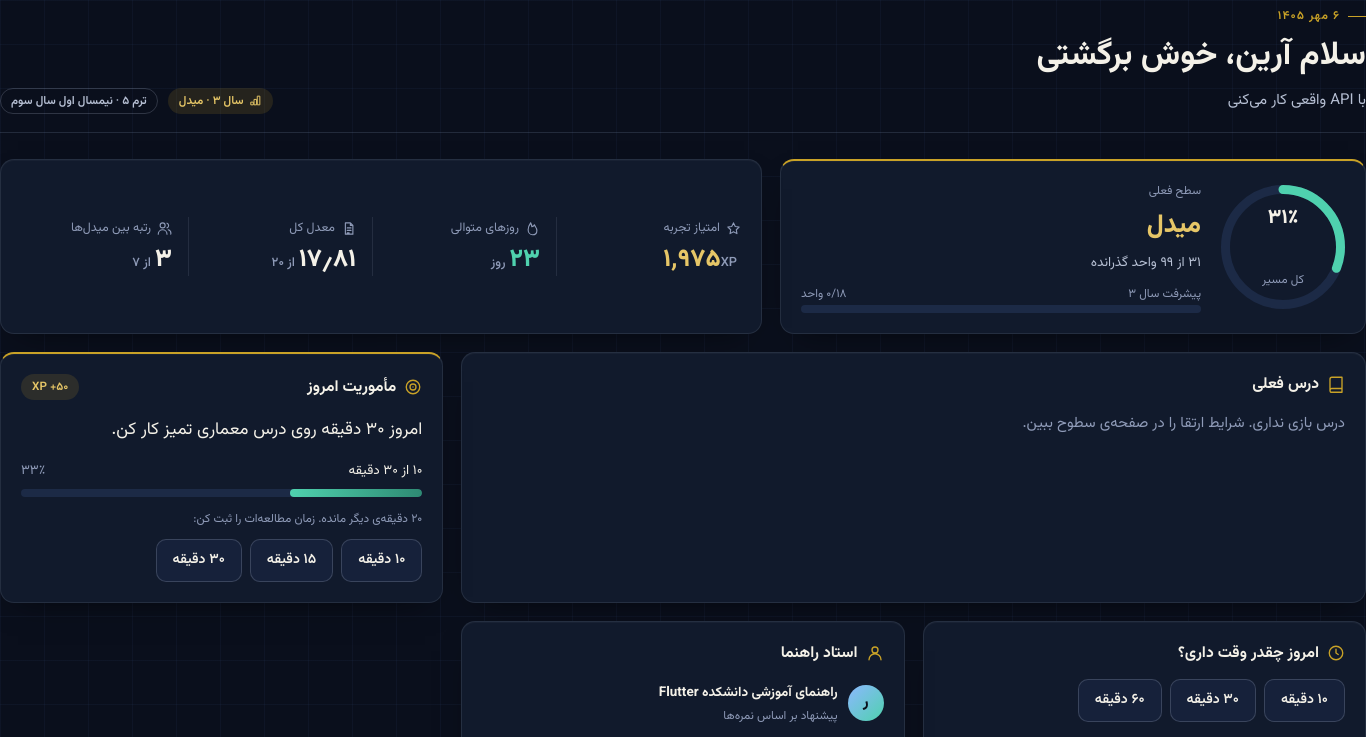
it: Dashboard › check-in posts the chosen time and shows the suggestion
What coordinates should you click on to do the following:
click the button "۳۰ دقیقه" below "امروز چقدر وقت داری؟"
I would click on:
 (1213, 700)
Its box is [1170,679,1256,722].
(page scrolled)
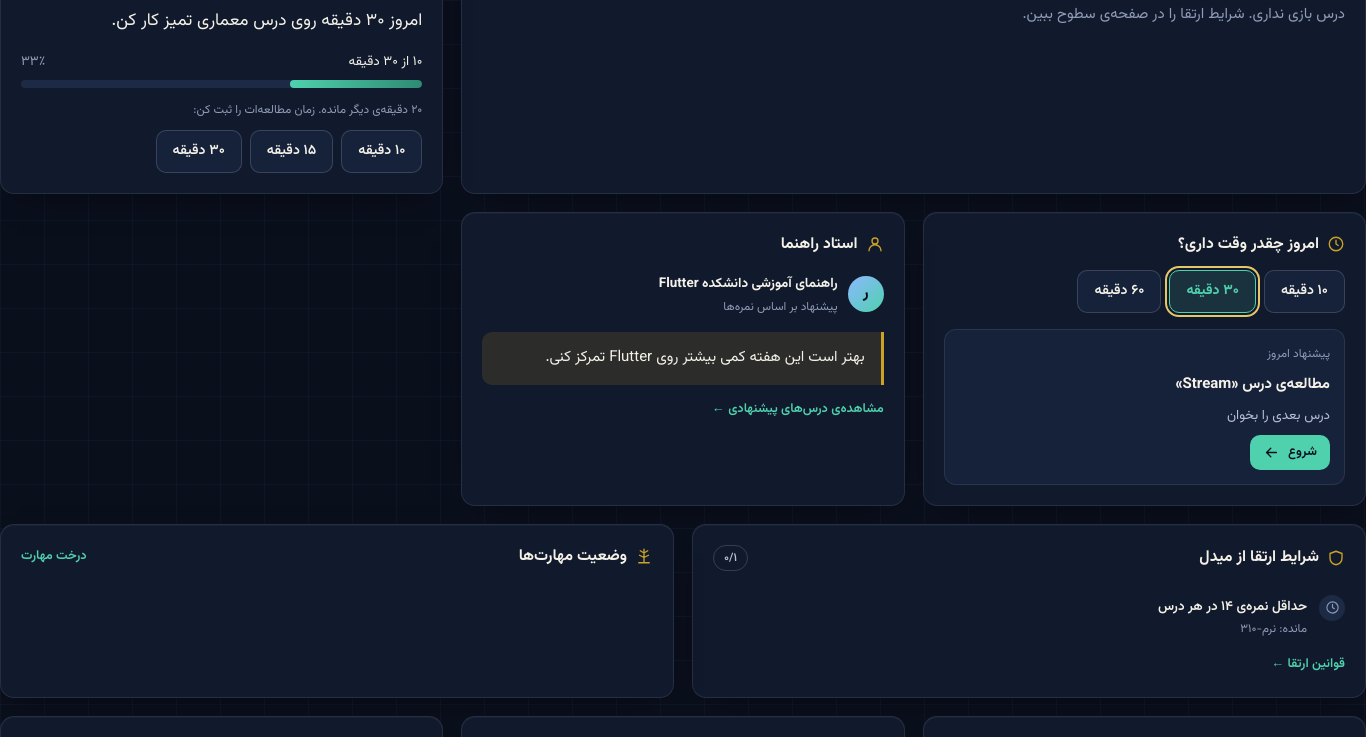
Check: the text "مطالعه‌ی درس «Stream»" is shown, box [1175,371,1330,398]
